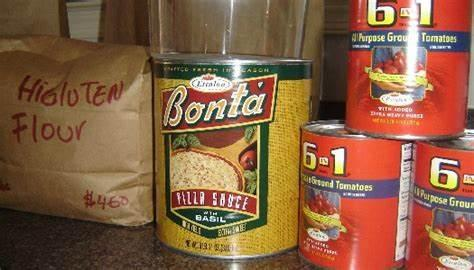metal: (156, 1, 474, 270)
